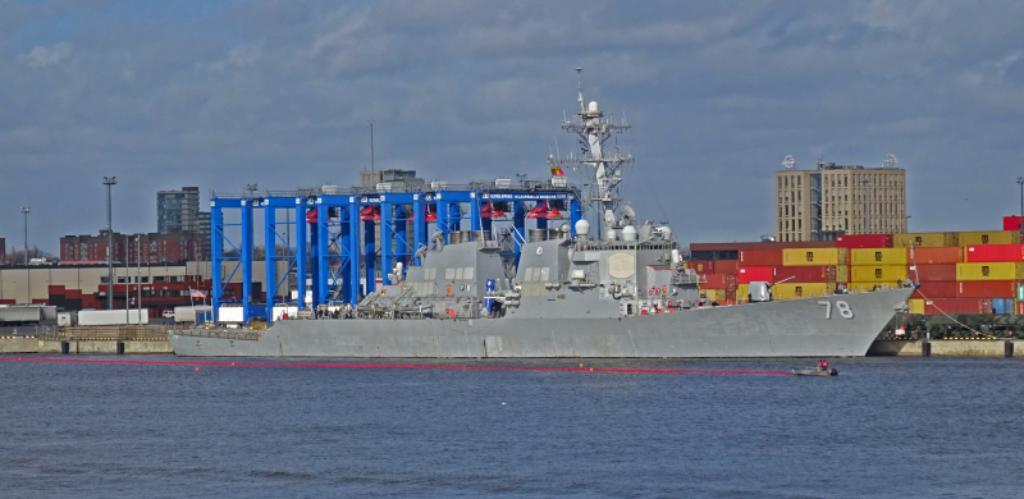Warship: (165, 62, 921, 360)
